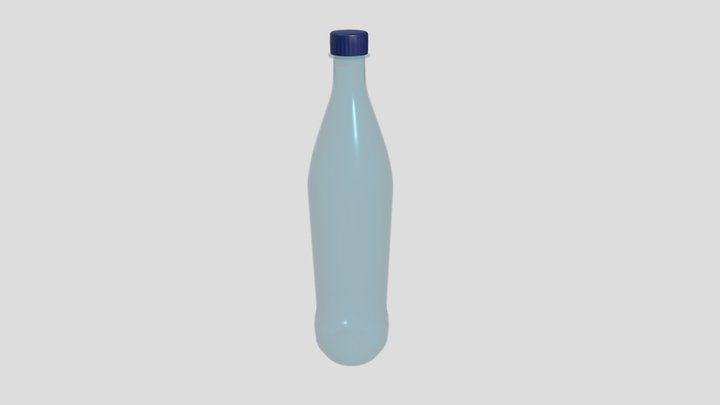plastic_bottle: (306, 24, 398, 369)
